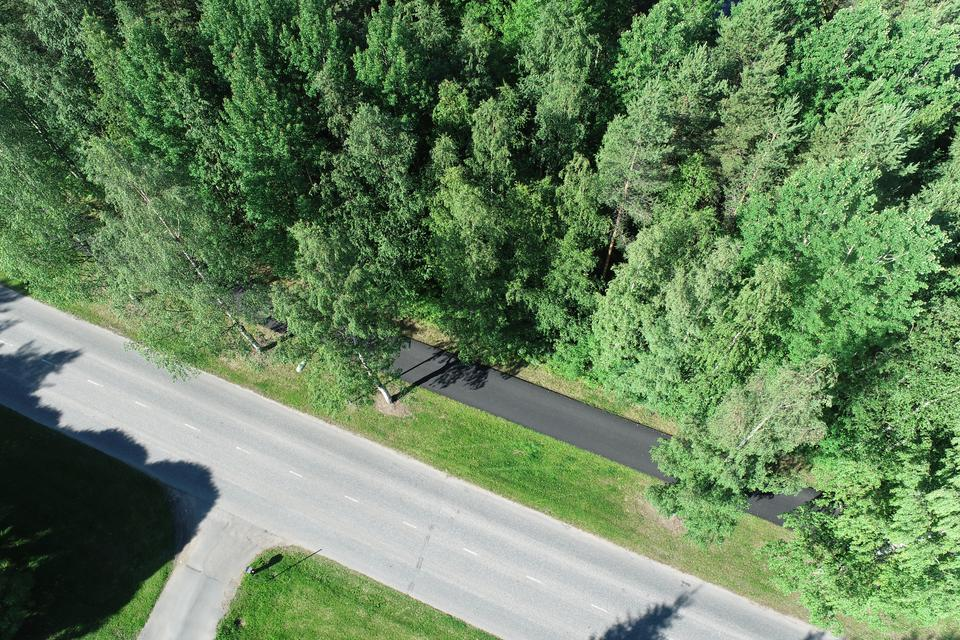intersection: (146, 330, 323, 597)
